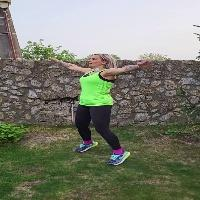jumping_jacks: (41, 45, 162, 169)
